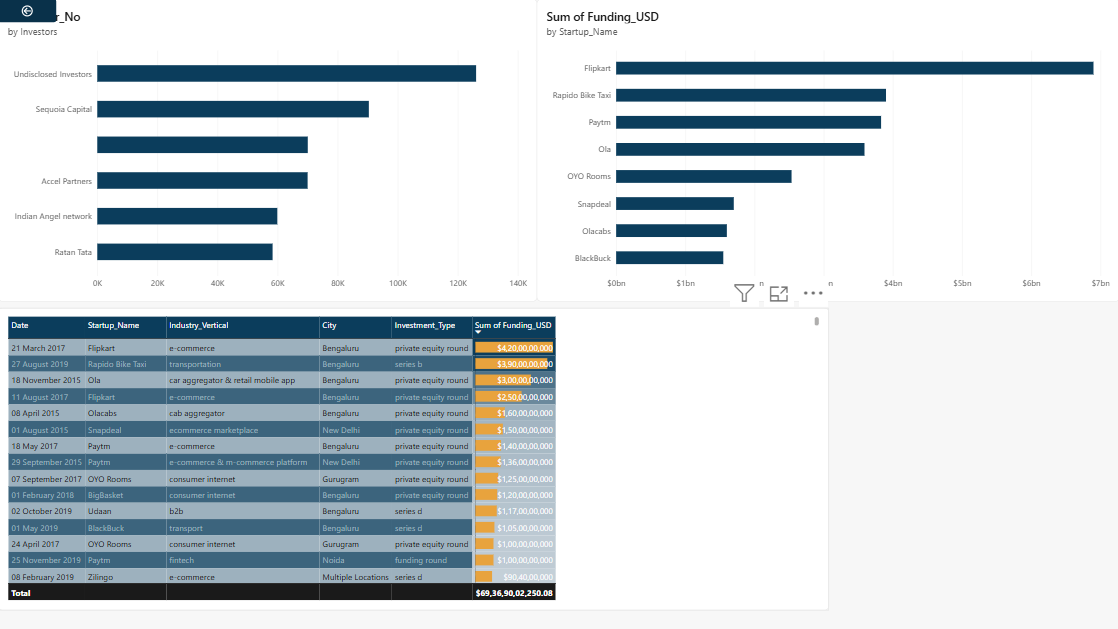

What the dashboard file says about the page in this screenshot:
{"tool":"powerbi","page":{"name":"Investors & Startups","canvas":[1920,1080],"ordinal":2},"visuals":[{"type":"clusteredBarChart","fields":{"Category":["Indian_Startup_Funding_Cleaned (1).Investors"],"Y":["Sum(Indian_Startup_Funding_Cleaned (1).Sr_No)"]},"box":[0,0,922.5,517.5],"z":0},{"type":"clusteredBarChart","fields":{"Category":["Indian_Startup_Funding_Cleaned (1).Startup_Name"],"Y":["Sum(Indian_Startup_Funding_Cleaned (1).Funding_USD)"]},"box":[922.5,0,997.5,517.5],"z":1},{"type":"tableEx","fields":{"Values":["Indian_Startup_Funding_Cleaned (1).Date","Indian_Startup_Funding_Cleaned (1).Startup_Name","Indian_Startup_Funding_Cleaned (1).Industry_Vertical","Indian_Startup_Funding_Cleaned (1).City","Indian_Startup_Funding_Cleaned (1).Investment_Type","Sum(Indian_Startup_Funding_Cleaned (1).Funding_USD)"]},"box":[0,528.1,1421.8,517.4],"z":2},{"type":"actionButton","box":[0,0,100,40],"z":3}]}

Visuals, with their boxes on the page's 1920x1080 design canvas (x1, y1, x2, y2). These are canvas units, not pixel positions in the 1118x629 screenshot, which may show the page scaled, cropped or inside an application window:
clusteredBarChart - Indian_Startup_Funding_Cleaned (1).Investors x Sum(Indian_Startup_Funding_Cleaned (1).Sr_No): box=[0, 0, 922, 518]
clusteredBarChart - Indian_Startup_Funding_Cleaned (1).Startup_Name x Sum(Indian_Startup_Funding_Cleaned (1).Funding_USD): box=[922, 0, 1920, 518]
tableEx - Indian_Startup_Funding_Cleaned (1).Date x Indian_Startup_Funding_Cleaned (1).Startup_Name: box=[0, 528, 1422, 1046]
actionButton: box=[0, 0, 100, 40]
